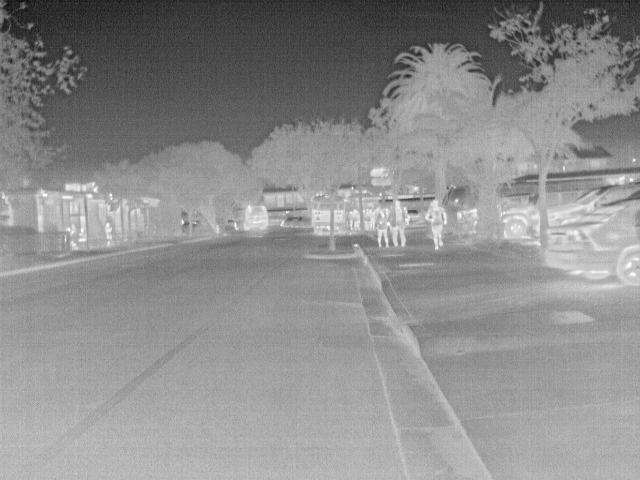car: (542, 198, 639, 289), (546, 181, 639, 231), (498, 202, 537, 242), (453, 204, 477, 234), (405, 207, 420, 221)
person: (424, 197, 447, 249), (385, 197, 408, 247), (373, 208, 392, 250), (101, 220, 115, 250), (75, 227, 87, 242), (347, 209, 355, 231)
